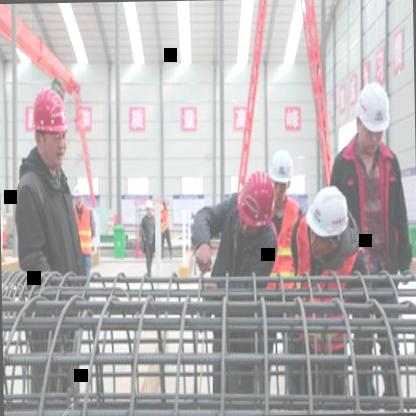helmet: (26, 81, 72, 169), (304, 182, 352, 250), (352, 78, 394, 152), (238, 168, 272, 231), (268, 146, 296, 198), (72, 178, 84, 206), (143, 192, 154, 216)
